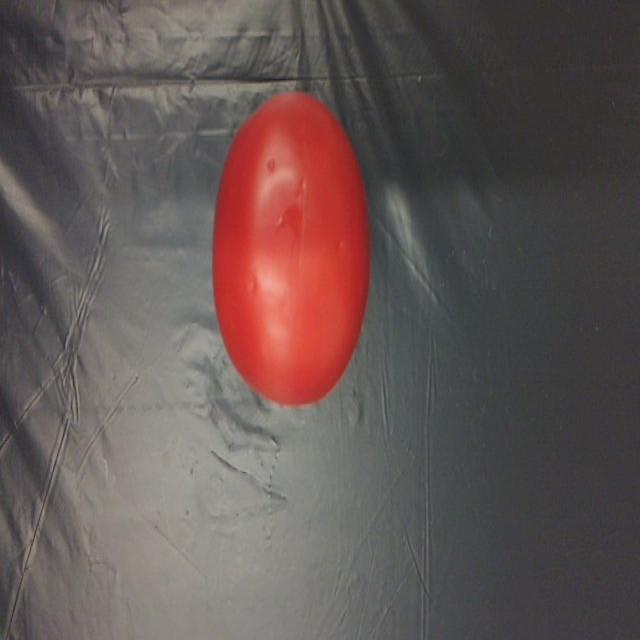kirmizi: (209, 74, 374, 394)
